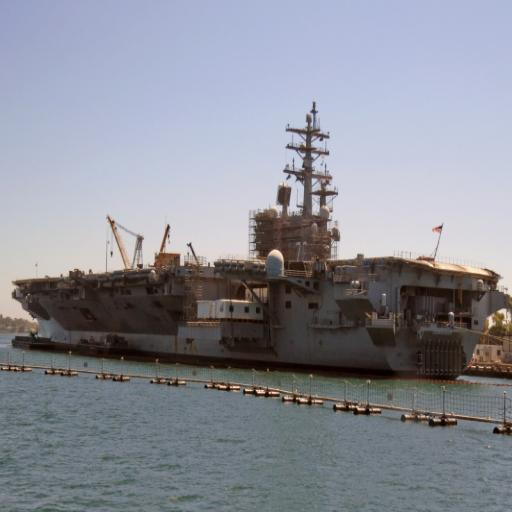Portanaves: (11, 95, 511, 383)
